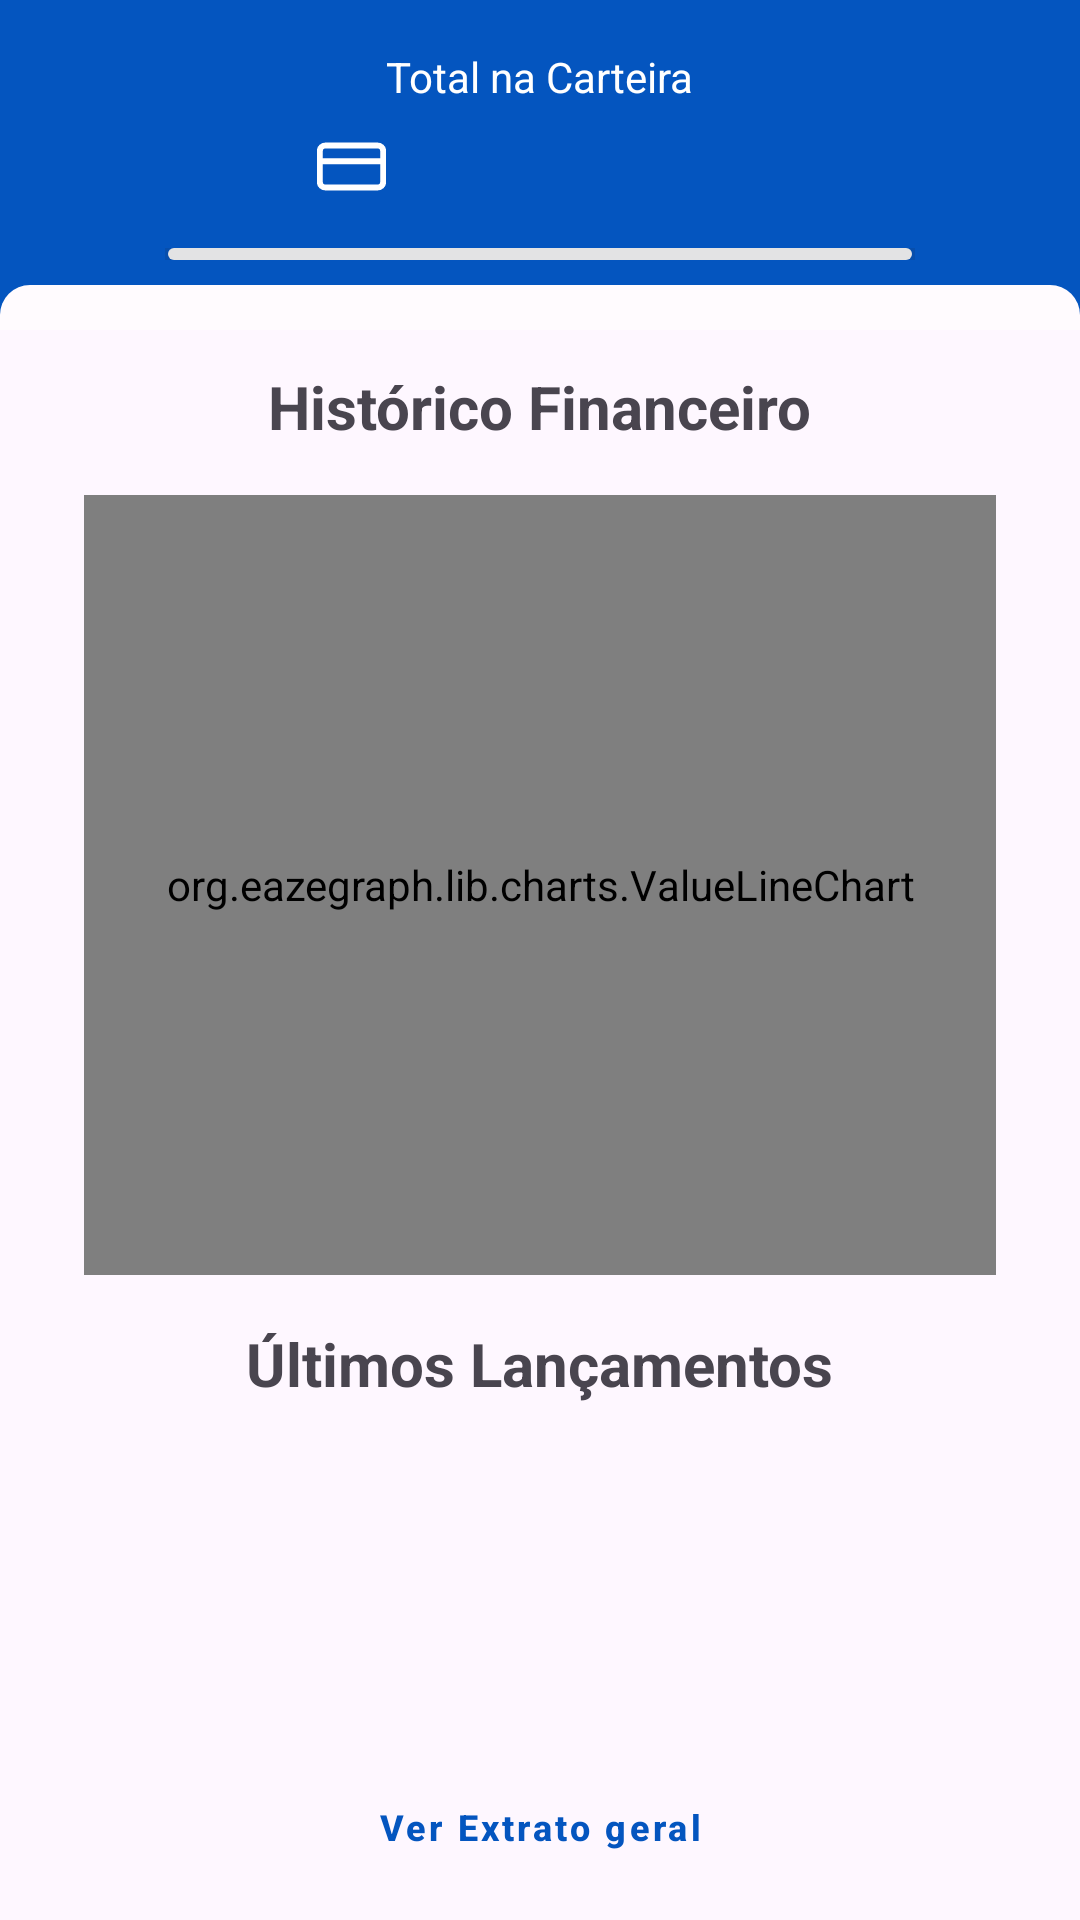

Screen size 1080w x 1920h. Icon name, then its center in pixels as point (x, y):
credit card: point (351, 166)
